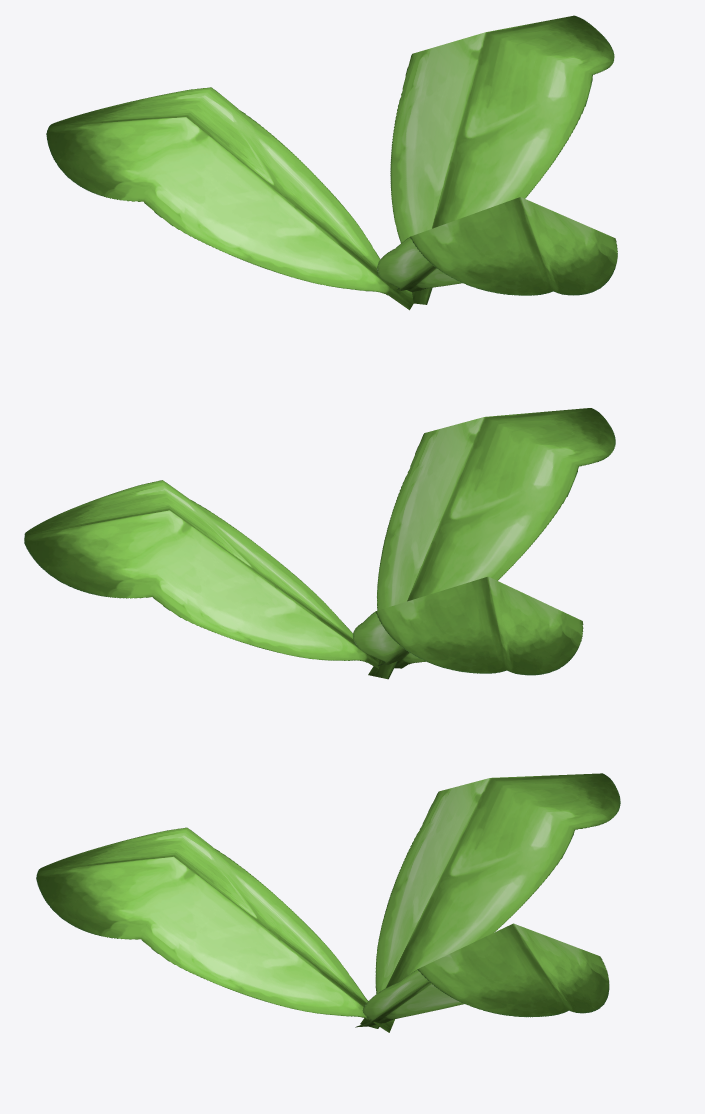
Rendered from Plant_03.fbx.
The picture shows the model from 3 angles, top to bottom: view 1: azimuth 30°, elevation 25°; view 2: azimuth 150°, elevation 25°; view 3: azimuth 270°, elevation 25°; orthographic projection. The views are drawn at different scales.
Parts seen in each view (by area): view 1: PRP_Plant03; view 2: PRP_Plant03; view 3: PRP_Plant03.
Part boxes in pixels (x1,y1,x2,y2): PRP_Plant03: (46,15,617,310); PRP_Plant03: (24,408,615,679); PRP_Plant03: (36,773,620,1032).
Size of the model in its own units: 37.2 by 11.14 by 35.95.
